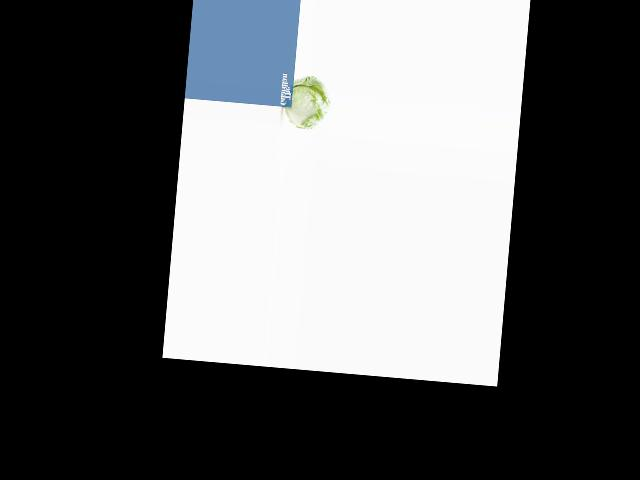lettuce: (283, 75, 334, 130)
